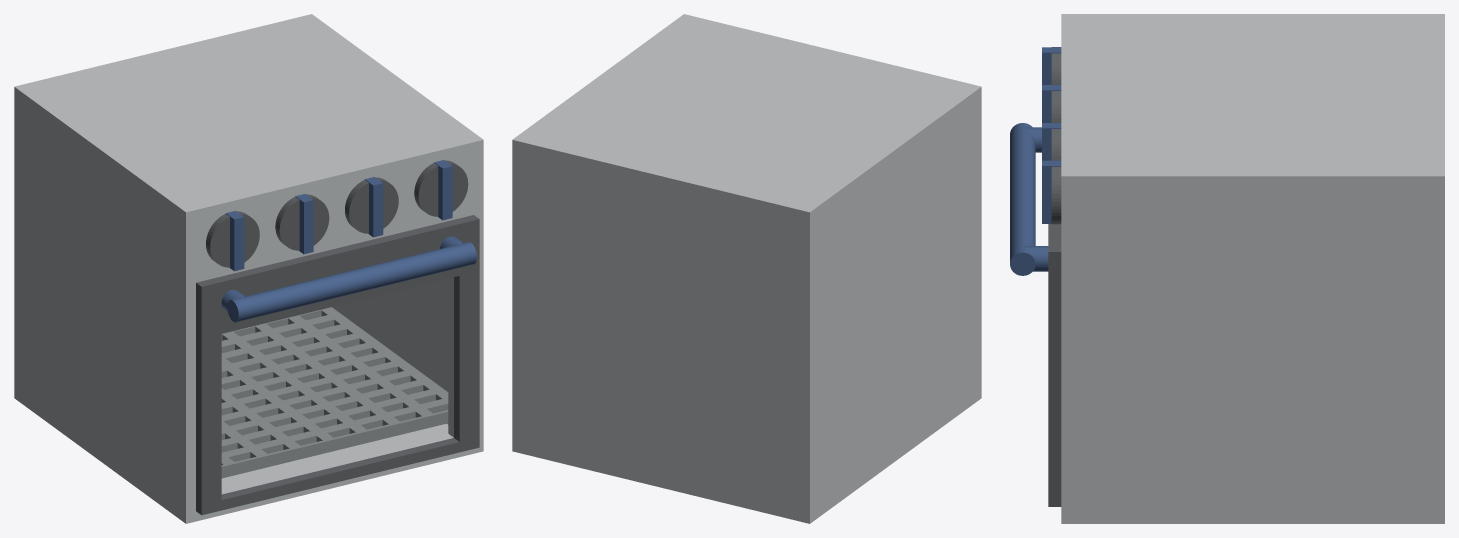
File: oven.glb
3 views of the same model, side by side, from view 1: azimuth 30°, elevation 25°; view 2: azimuth 150°, elevation 25°; view 3: azimuth 270°, elevation 25° (orthographic). The views are drawn at different scales.
Parts seen in each view (by area): view 1: Mesh_Mesh_head_geo.001_lambert2SG.001; view 2: Mesh_Mesh_head_geo.001_lambert2SG.001; view 3: Mesh_Mesh_head_geo.001_lambert2SG.001.
Boxes of the visible parts, left/top/right/bottom form: Mesh_Mesh_head_geo.001_lambert2SG.001: left=14, top=14, right=483, bottom=523; Mesh_Mesh_head_geo.001_lambert2SG.001: left=512, top=14, right=981, bottom=523; Mesh_Mesh_head_geo.001_lambert2SG.001: left=1010, top=14, right=1444, bottom=523.
Size of the model in its own units: 0.03 by 0.03 by 0.034.
